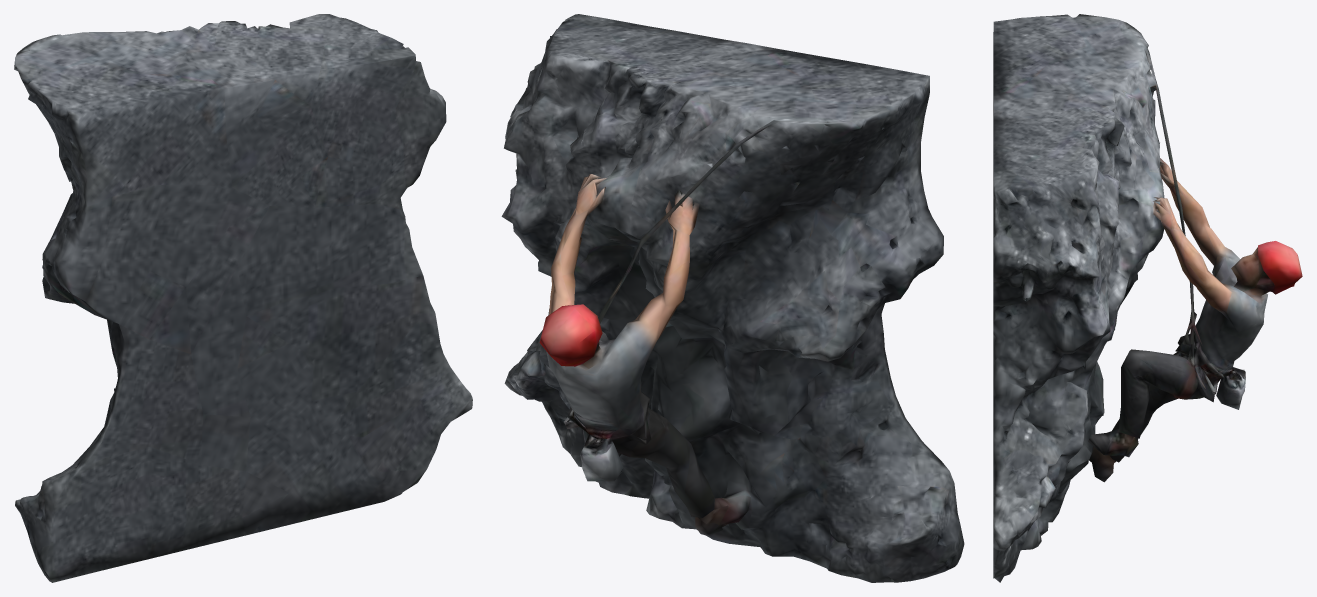
The model's file is kletterer.glb.
3 renders of one model, left to right at view 1: azimuth 30°, elevation 25°; view 2: azimuth 150°, elevation 25°; view 3: azimuth 270°, elevation 25°, orthographic. The views are drawn at different scales.
Parts seen in each view (by area): view 1: tripo_node_b30da1a4-9933-4787-89f1-53a7768e4dde; view 2: tripo_node_b30da1a4-9933-4787-89f1-53a7768e4dde; view 3: tripo_node_b30da1a4-9933-4787-89f1-53a7768e4dde.
Part boxes in pixels (left/top/right/bottom): tripo_node_b30da1a4-9933-4787-89f1-53a7768e4dde: left=14, top=14, right=472, bottom=582; tripo_node_b30da1a4-9933-4787-89f1-53a7768e4dde: left=501, top=14, right=964, bottom=582; tripo_node_b30da1a4-9933-4787-89f1-53a7768e4dde: left=993, top=14, right=1302, bottom=582.
Bounding box in the file's own units: 0.9691 × 1 × 0.6643.
1 material, 1 textured.
